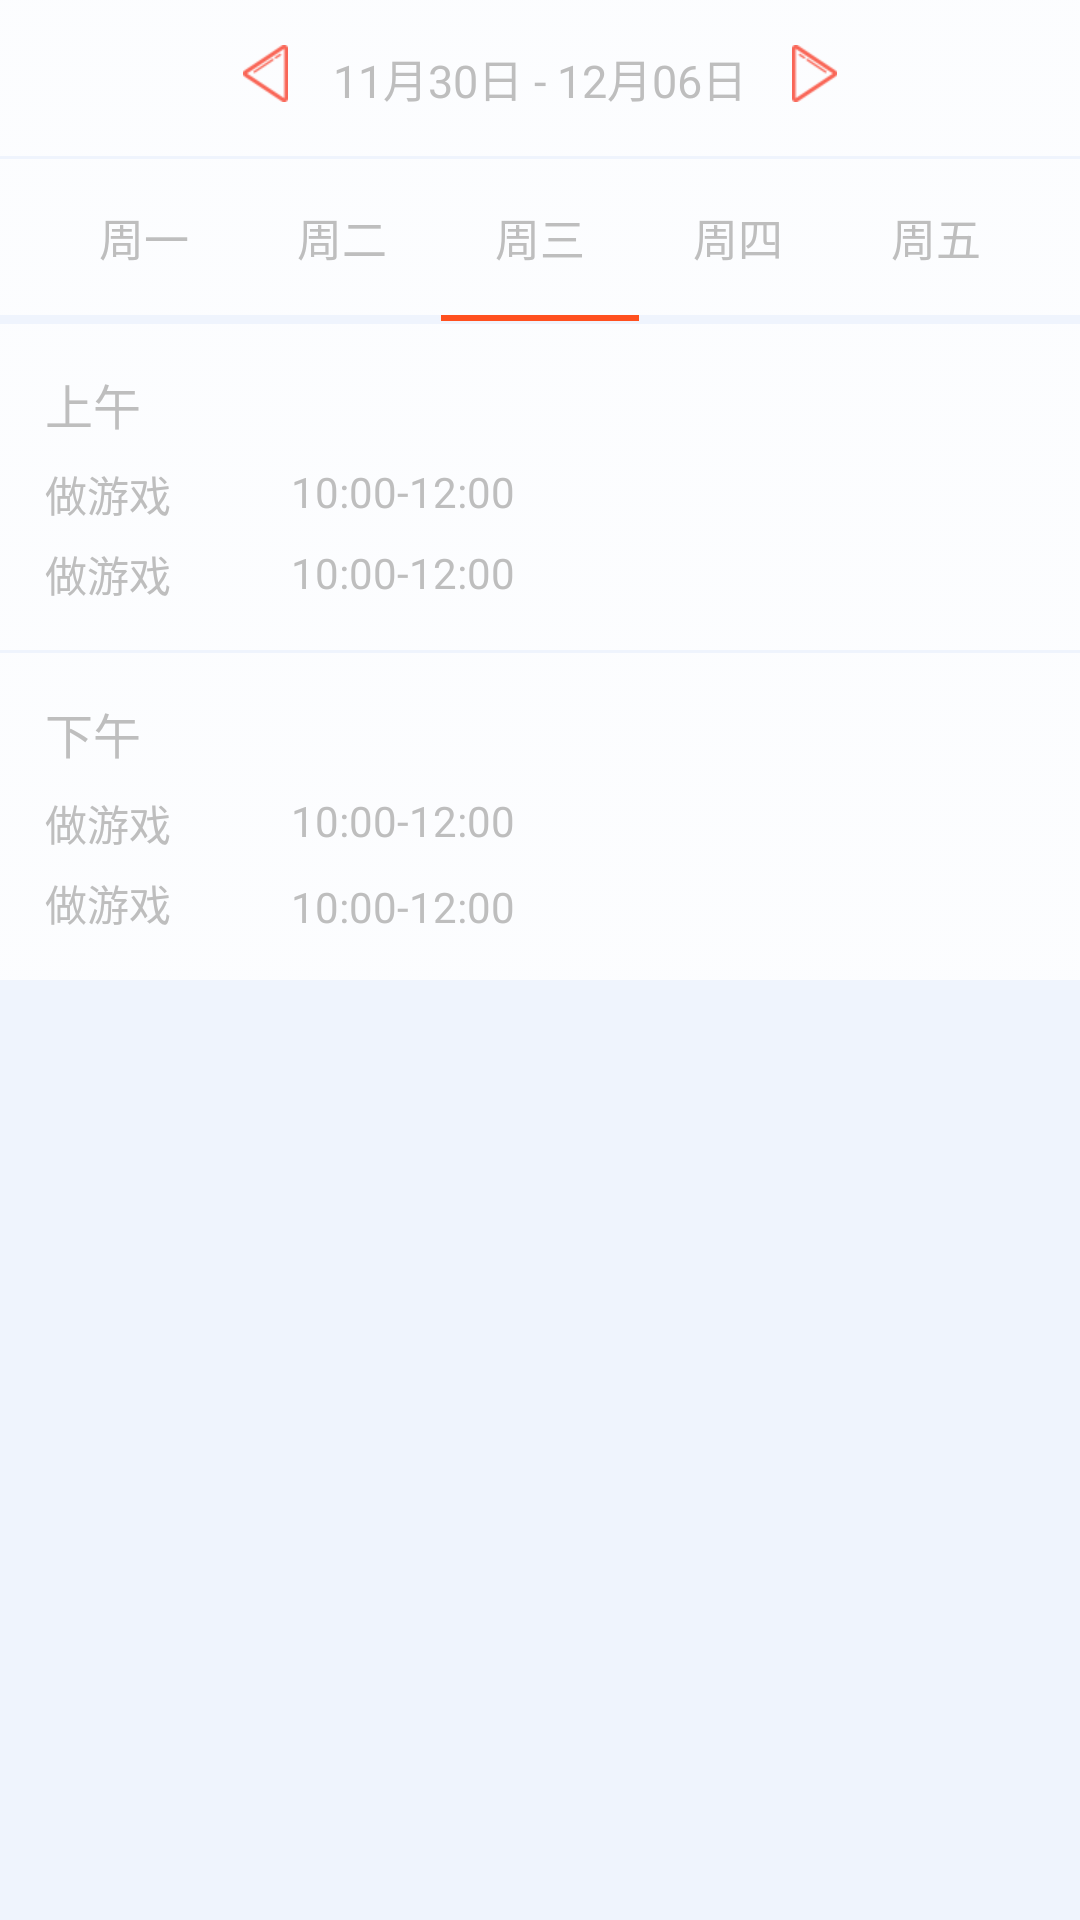

Icons on this 1080*1920 Android screen, each with its box as box(x1, y1, x2, y2):
left jiantou: box(243, 45, 288, 102)
right jiantou: box(792, 45, 837, 102)
